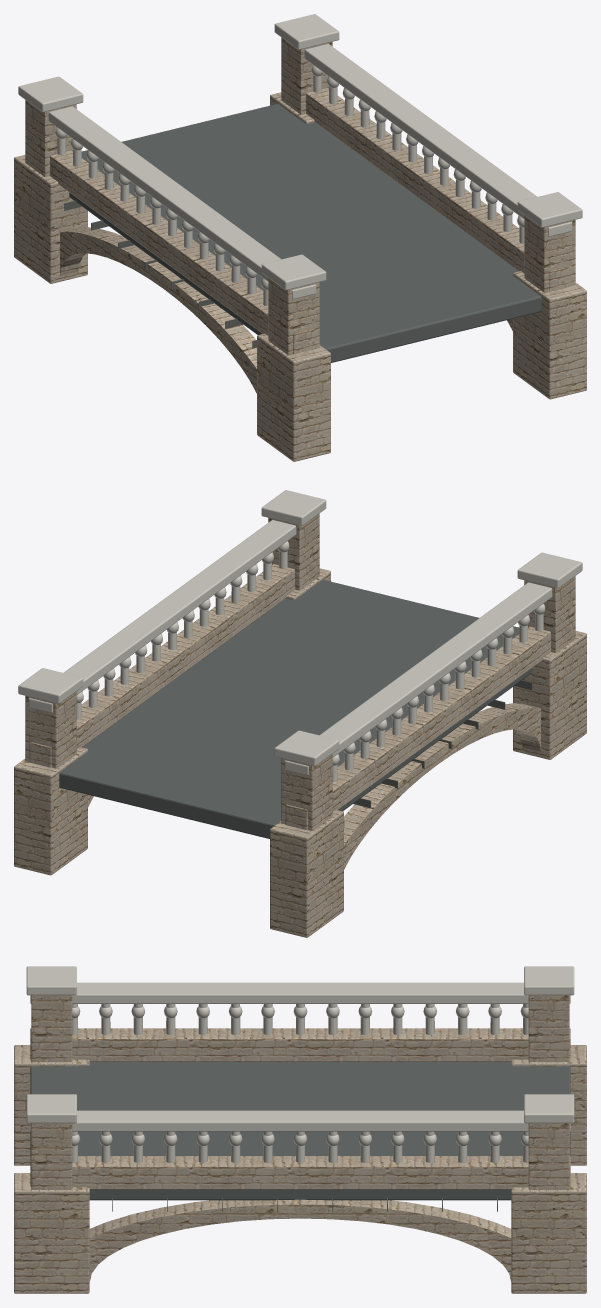
File: elmwood-bridge-632089443.glb
3 renders of one model, top to bottom at view 1: azimuth 30°, elevation 25°; view 2: azimuth 150°, elevation 25°; view 3: azimuth 270°, elevation 25°, orthographic. The views are drawn at different scales.
Visible parts, largest first — view 1: elmwood-bridge-632089443 Polish limestone, elmwood-bridge-632089443 Polish bridge asphalt, elmwood-bridge-632089443 Polish dressed limestone, elmwood-bridge-632089443 Polish carved recess; view 2: elmwood-bridge-632089443 Polish limestone, elmwood-bridge-632089443 Polish bridge asphalt, elmwood-bridge-632089443 Polish dressed limestone, elmwood-bridge-632089443 Polish carved recess; view 3: elmwood-bridge-632089443 Polish limestone, elmwood-bridge-632089443 Polish bridge asphalt, elmwood-bridge-632089443 Polish dressed limestone.
Part boxes in pixels (x1,y1,x2,y2): elmwood-bridge-632089443 Polish limestone: [14, 37, 586, 461]; elmwood-bridge-632089443 Polish bridge asphalt: [69, 103, 541, 362]; elmwood-bridge-632089443 Polish dressed limestone: [18, 14, 582, 305]; elmwood-bridge-632089443 Polish carved recess: [64, 200, 256, 348]; elmwood-bridge-632089443 Polish limestone: [14, 513, 586, 937]; elmwood-bridge-632089443 Polish bridge asphalt: [59, 579, 531, 838]; elmwood-bridge-632089443 Polish dressed limestone: [18, 490, 582, 781]; elmwood-bridge-632089443 Polish carved recess: [344, 680, 532, 827]; elmwood-bridge-632089443 Polish limestone: [14, 995, 586, 1293]; elmwood-bridge-632089443 Polish bridge asphalt: [30, 1062, 570, 1200]; elmwood-bridge-632089443 Polish dressed limestone: [26, 966, 574, 1162].
Size of the model in its own units: 5.11 by 2.9 by 8.34.
4 materials, 1 textured.
